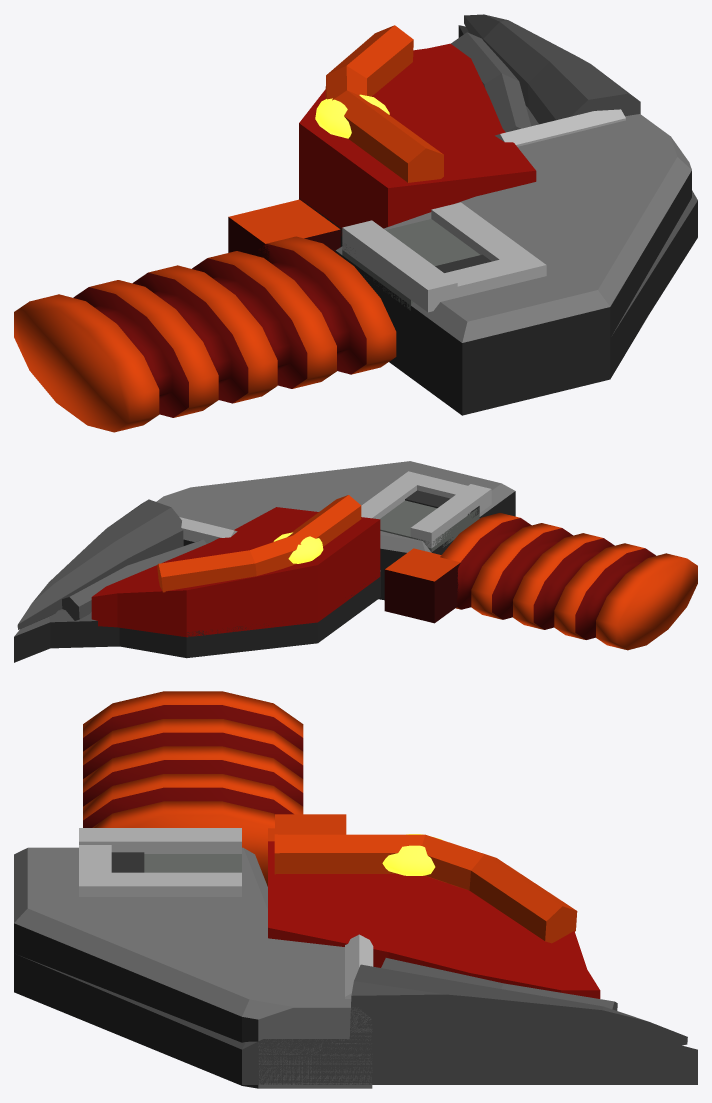
Rendered from newshk-242.glb.
The picture shows the model from 3 angles, top to bottom: view 1: azimuth 30°, elevation 25°; view 2: azimuth 150°, elevation 25°; view 3: azimuth 270°, elevation 25°; orthographic projection. The views are drawn at different scales.
Parts seen in each view (by area): view 1: newshk-242; view 2: newshk-242; view 3: newshk-242.
Part boxes in pixels (bbox=[...]): newshk-242: bbox=[14, 14, 697, 432]; newshk-242: bbox=[14, 461, 697, 662]; newshk-242: bbox=[14, 691, 697, 1088].
Size of the model in its own units: 1.83 by 0.3833 by 1.75.
